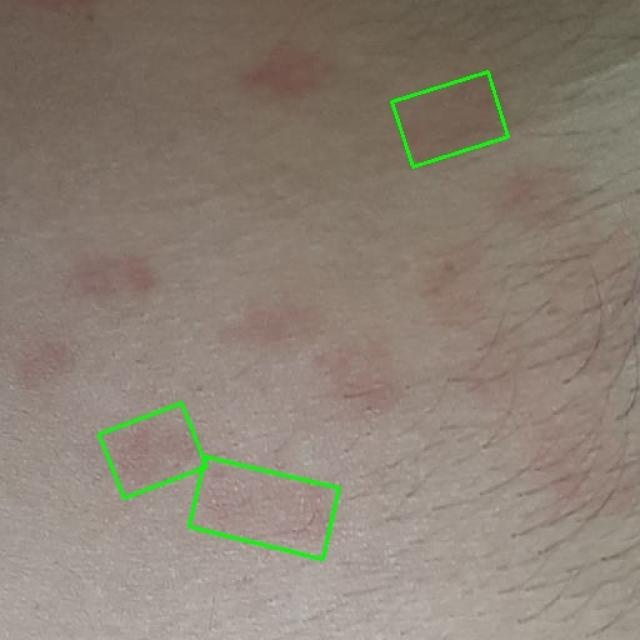Tinea Corporis: (189, 457, 339, 559), (392, 72, 509, 167), (99, 403, 207, 498)
